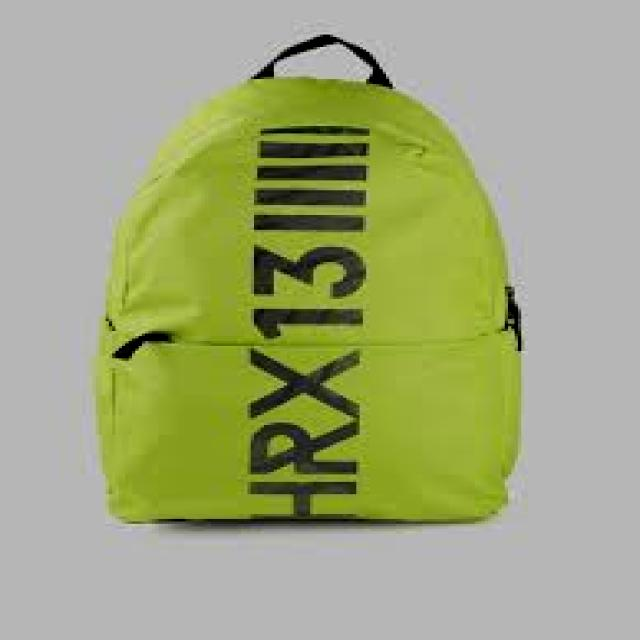backpack: (94, 33, 526, 525)
